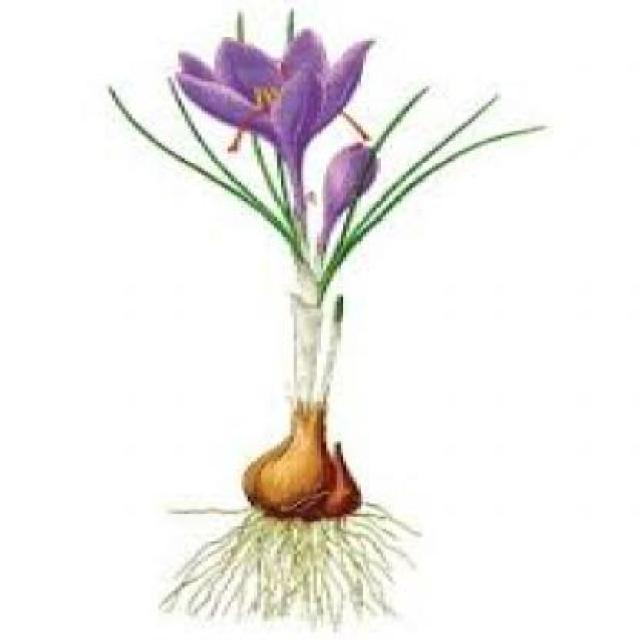saffron closed: (318, 142, 378, 252)
saffron open: (176, 30, 372, 214)
